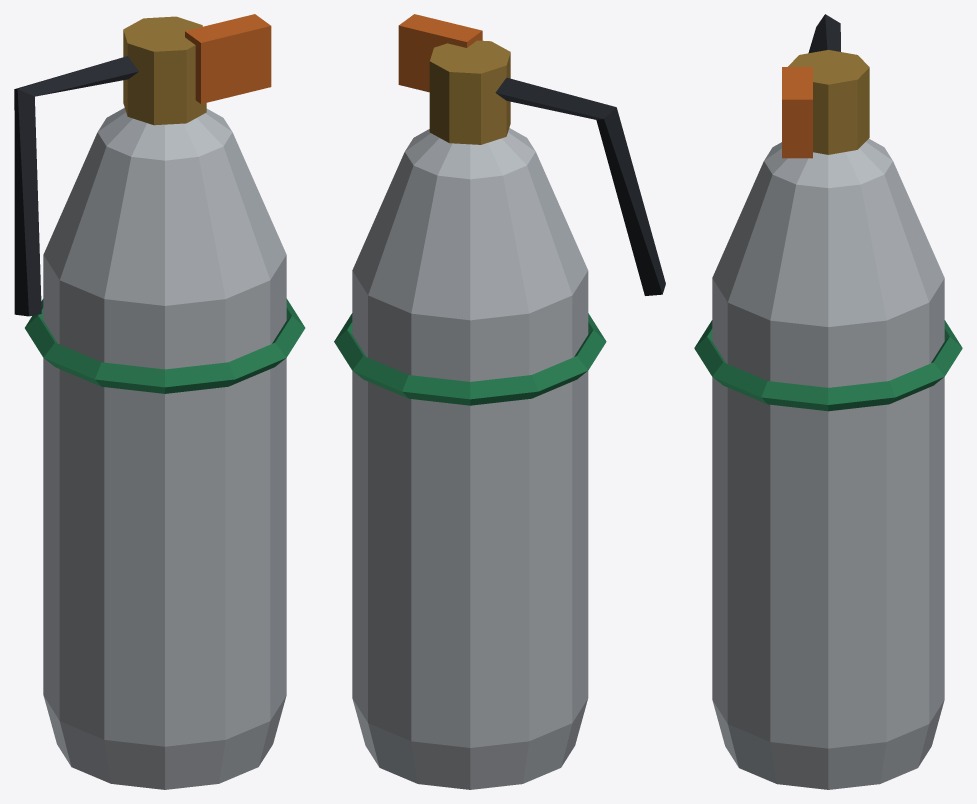
The model's file is oxygen-tank.glb.
The picture shows the model from 3 angles, left to right: view 1: azimuth 30°, elevation 25°; view 2: azimuth 150°, elevation 25°; view 3: azimuth 270°, elevation 25°; orthographic projection. The views are drawn at different scales.
Visible parts, largest first — view 1: m; view 2: m; view 3: m.
Part boxes in pixels (x1,y1,x2,y2): m: [14, 14, 305, 789]; m: [334, 14, 665, 789]; m: [694, 14, 962, 789].
Size of the model in its own units: 0.1297 by 0.3 by 0.1067.
